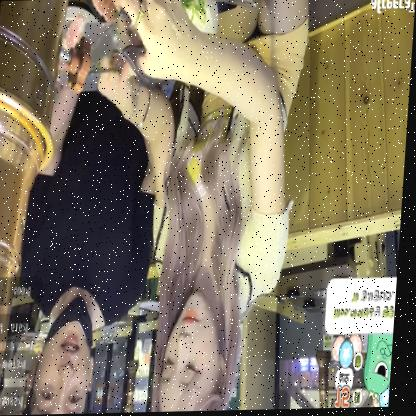donation: (321, 277, 401, 410)
streamer: (80, 0, 312, 414), (13, 80, 176, 415)
